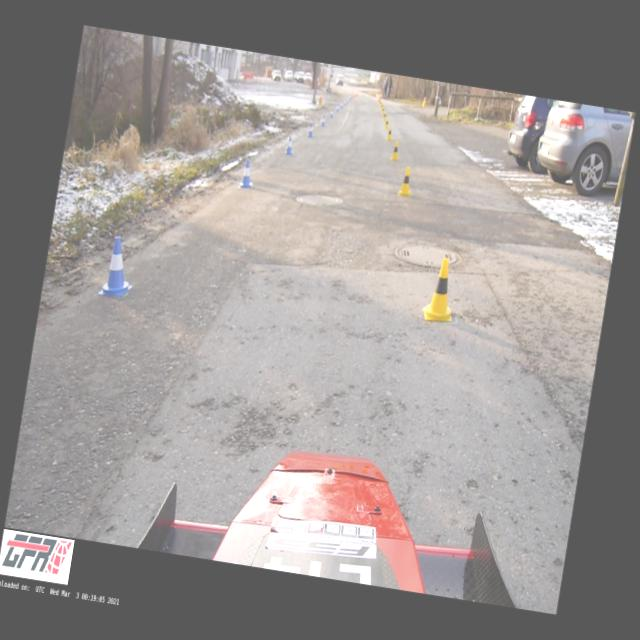blue_cone: (98, 234, 140, 299), (238, 158, 256, 190), (284, 135, 296, 156), (307, 123, 315, 138), (320, 114, 327, 128), (328, 108, 334, 118), (335, 104, 339, 112)
yellow_cone: (422, 256, 460, 324), (398, 164, 416, 197), (390, 140, 402, 162), (386, 125, 393, 140), (382, 117, 390, 129), (382, 110, 388, 120)
